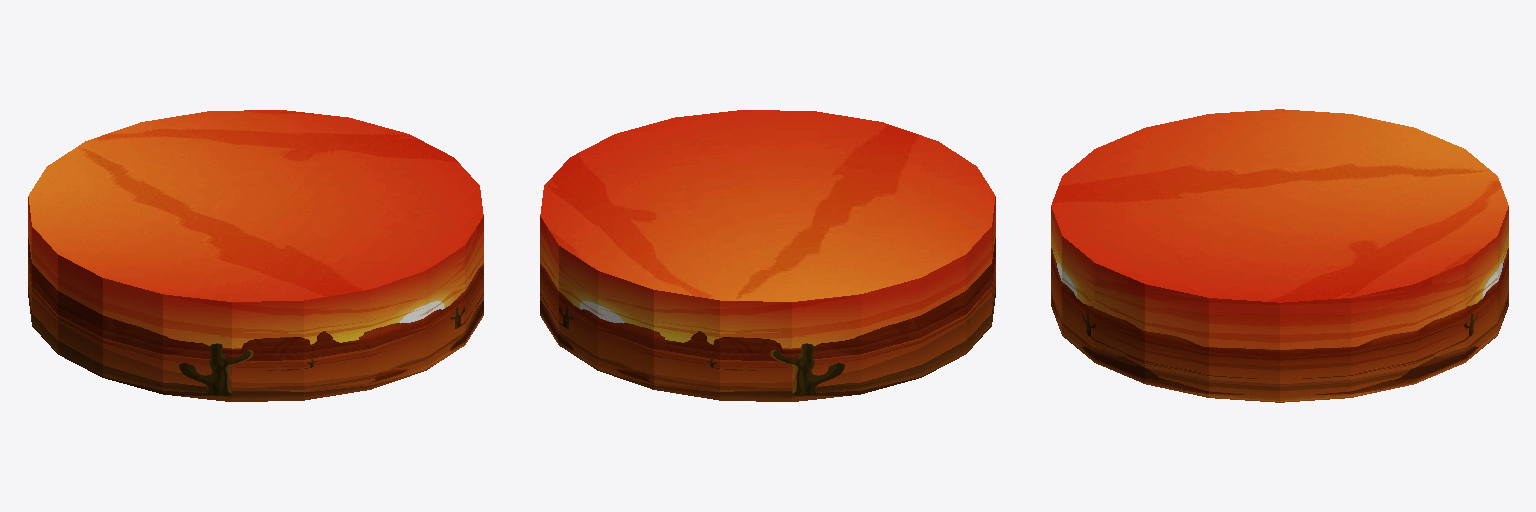
The picture shows the model from 3 angles: view 1: azimuth 30°, elevation 25°; view 2: azimuth 150°, elevation 25°; view 3: azimuth 270°, elevation 25°; orthographic projection.
Parts seen in each view (by area): view 1: pCylinder1; view 2: pCylinder1; view 3: pCylinder1.
Part boxes in pixels (x1,y1,x2,y2): pCylinder1: (28,110,483,401); pCylinder1: (540,110,995,401); pCylinder1: (1051,109,1508,402).
Size of the model in its own units: 485 by 117 by 485.
3 materials, 1 textured.